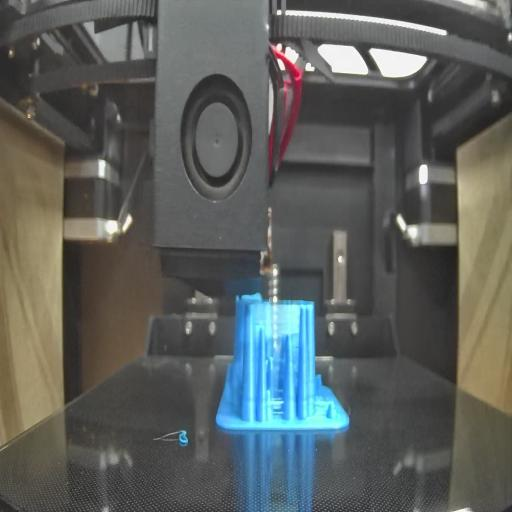stringing: (253, 301, 303, 343), (268, 389, 285, 425), (314, 393, 334, 412)
